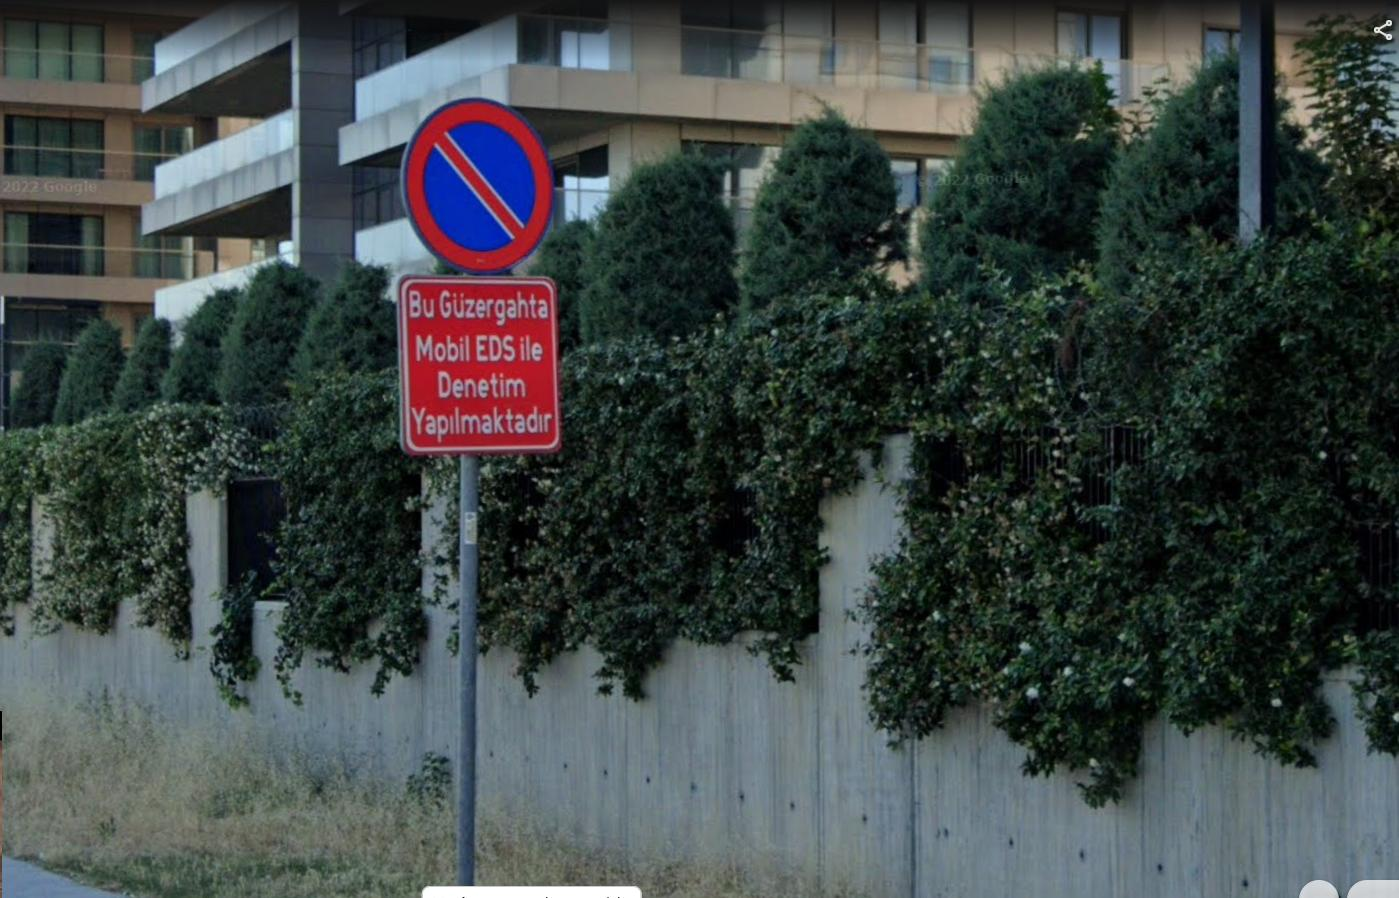nopark: (402, 98, 545, 264)
